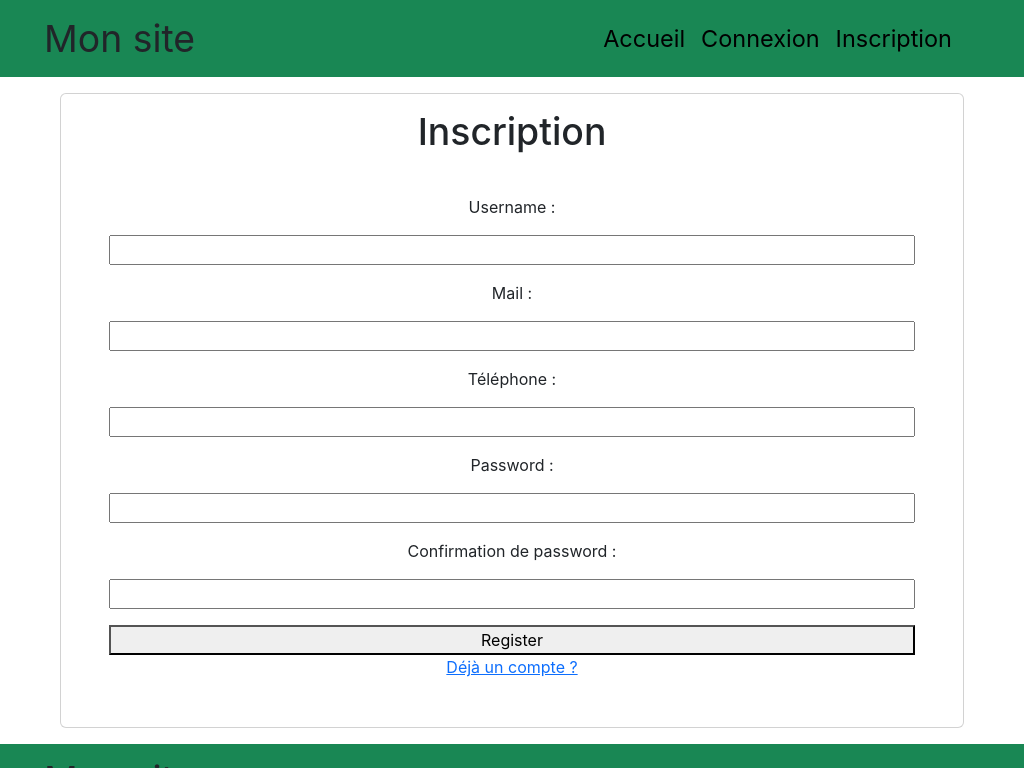
register test › Register › Should both password input correspond
This screenshot has width=1024, height=768.
In the field with id "username": coordinates (512, 250) [109, 235, 915, 265], type "admin"
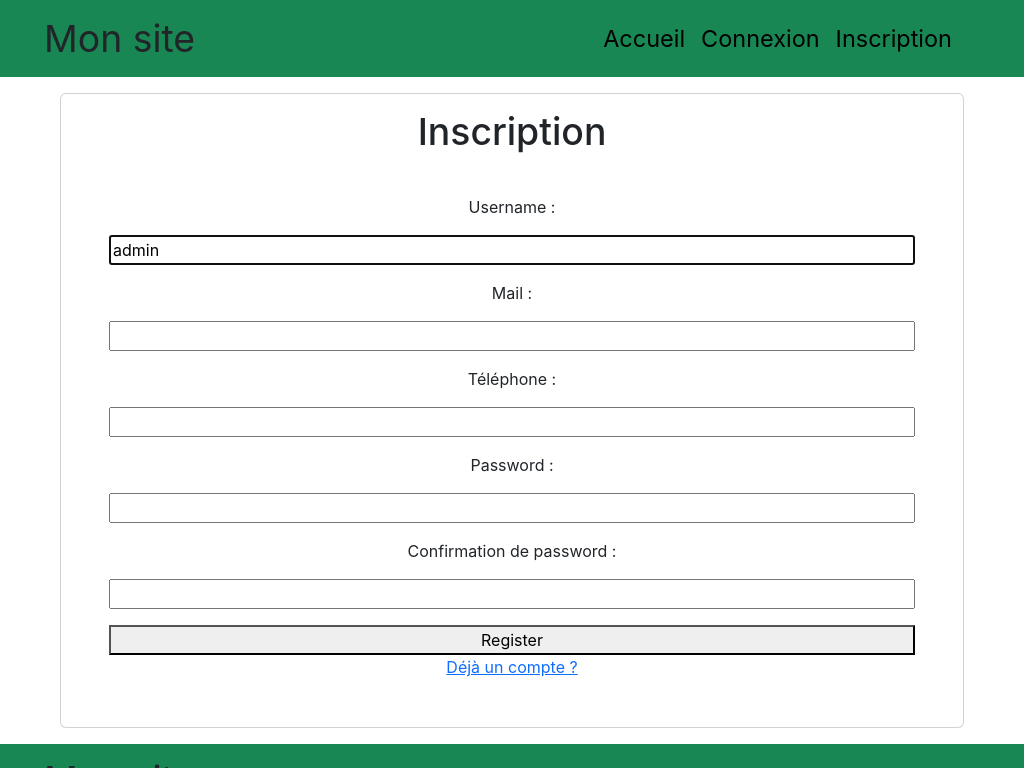
In the field with id "mail": coordinates (512, 336) [109, 321, 915, 351], type "admin@admin.com"
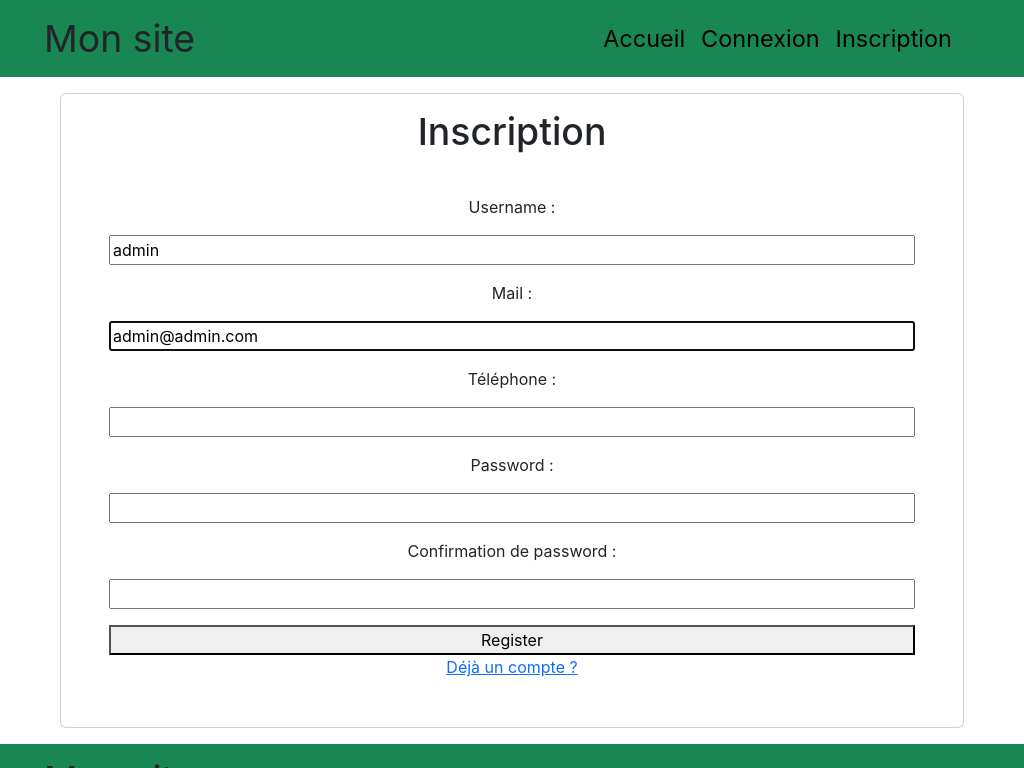
In the field labelled "Téléphone :": coordinates (512, 422) [109, 407, 915, 437], type "0606060606"
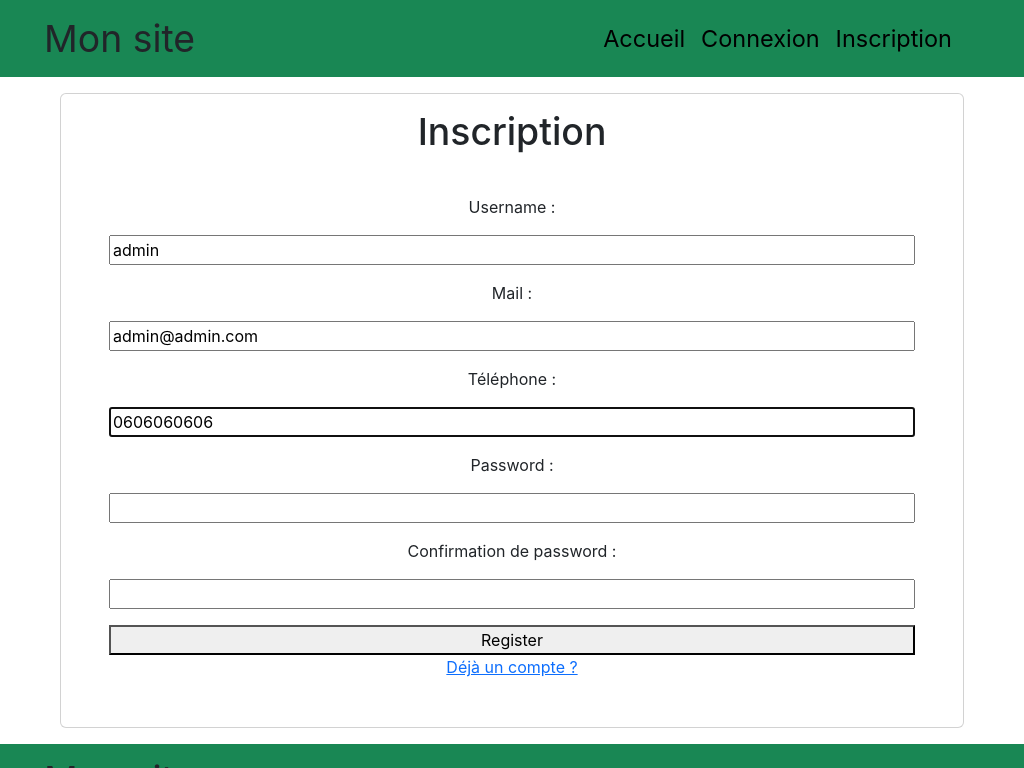
In the password field labelled "Password :": coordinates (512, 508) [109, 493, 915, 523], type "admin12!"
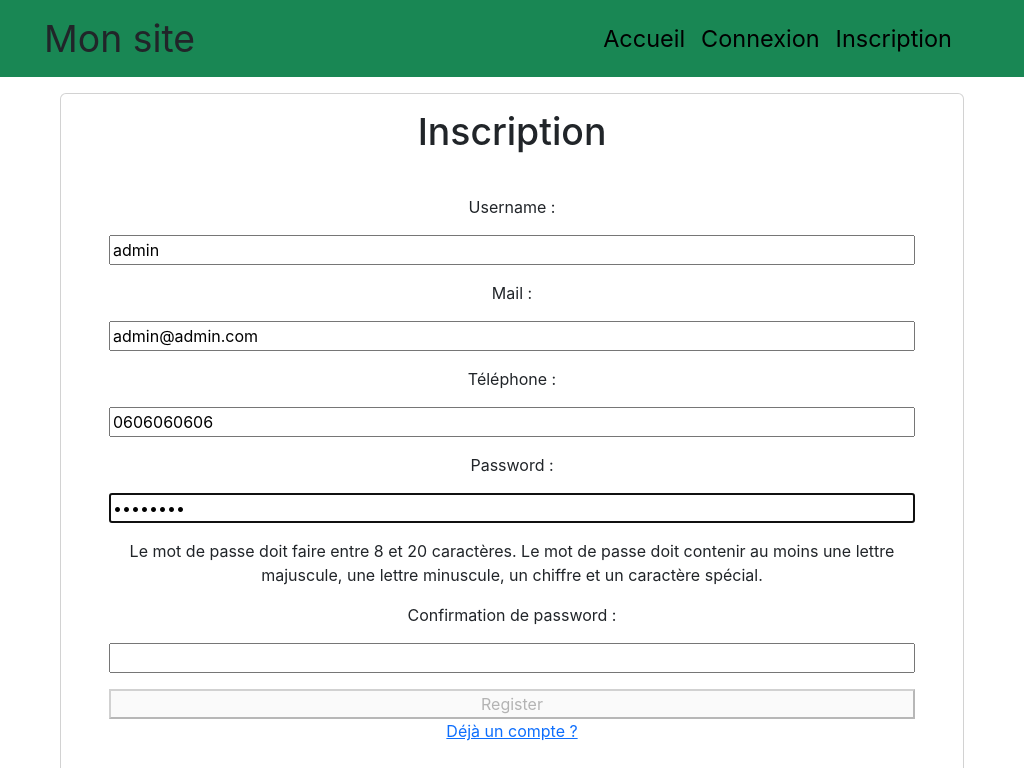
In the password field with id "cpassword": coordinates (512, 658) [109, 643, 915, 673], type "admin12"
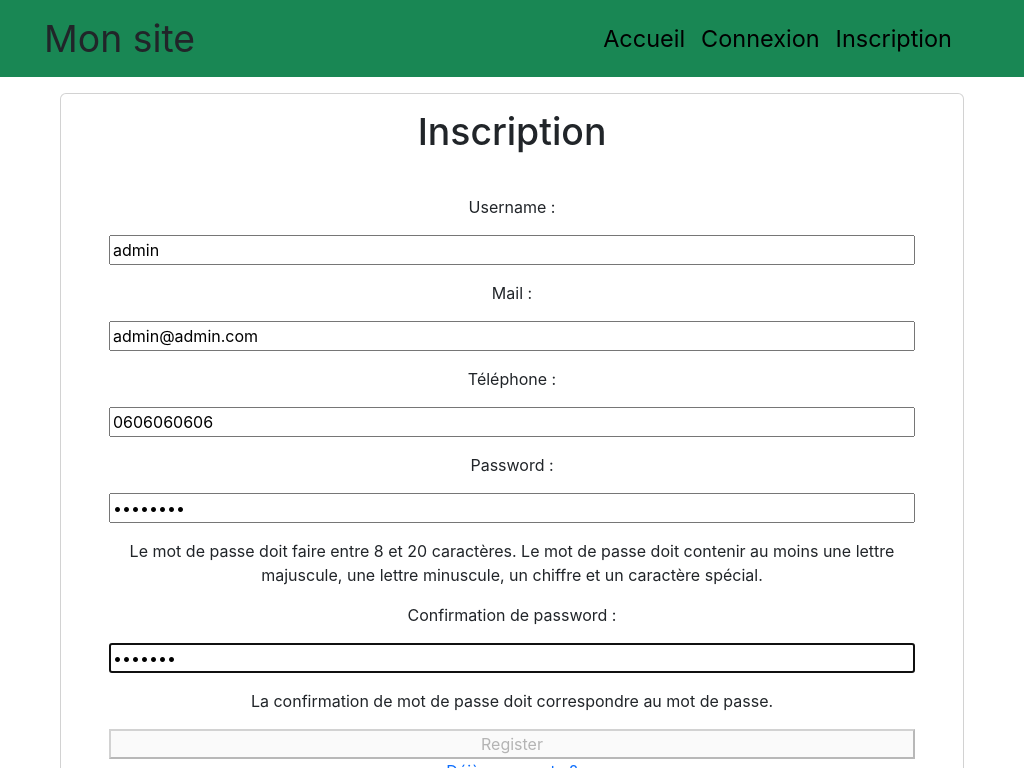
Expected: the text "La confirmation de mot de passe doit correspondre au mot de passe." is shown, [251, 691, 773, 711]
